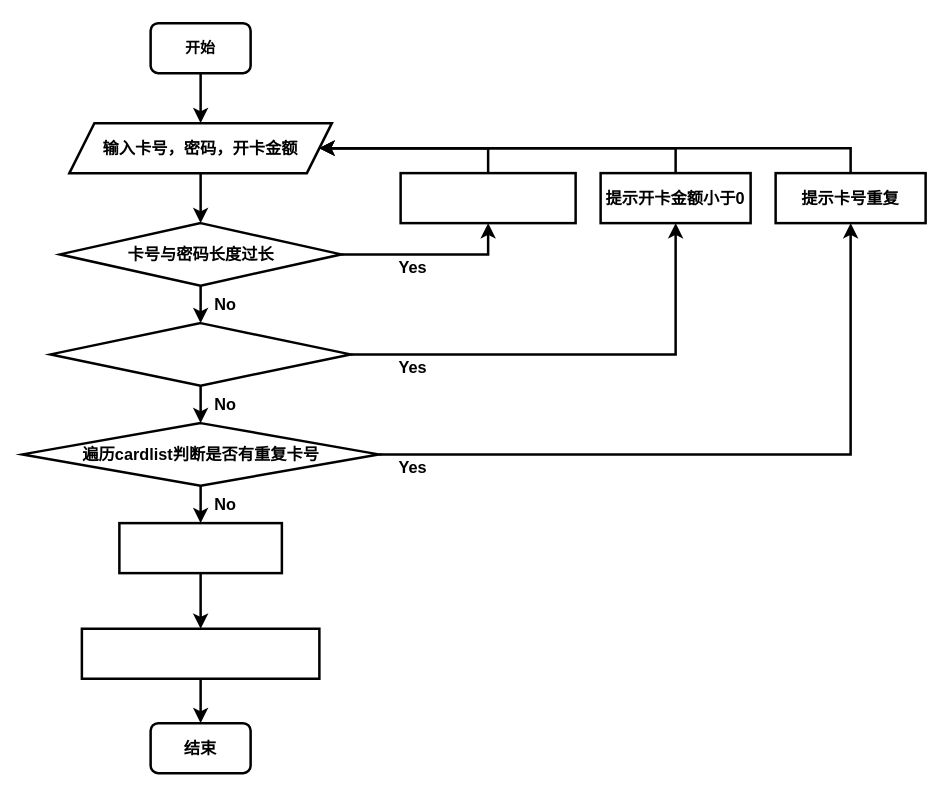
The diagram is 949 pixels wide and 795 high, and some of its shapes have lost their labels. Each missing label, with the centre of its shape:
"判断开卡金额小于0" goes at point 200,353.
"提示卡号与密码过长" goes at point 487,197.
"提示成功,比保存进入card.ams" goes at point 200,653.
"添加卡进入Cardlist" goes at point 200,547.
